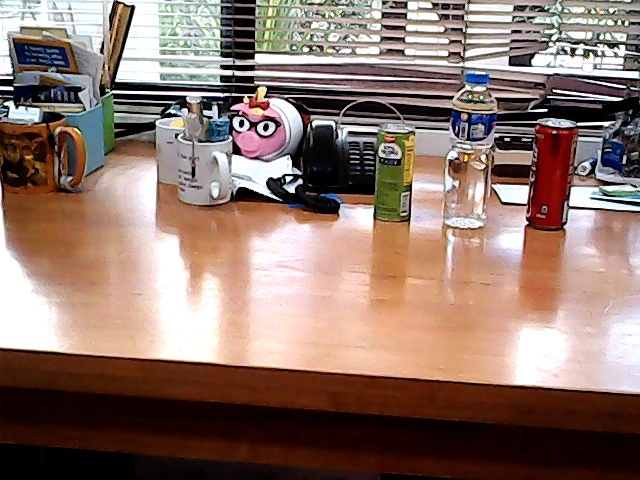Cola: (514, 108, 589, 240)
Pine Juice: (362, 115, 424, 228)
Summit Water: (433, 61, 511, 245)
